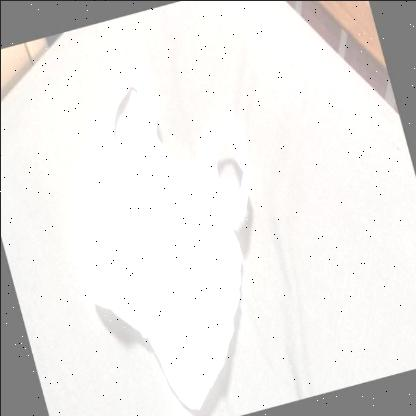Others: (72, 54, 256, 412)
